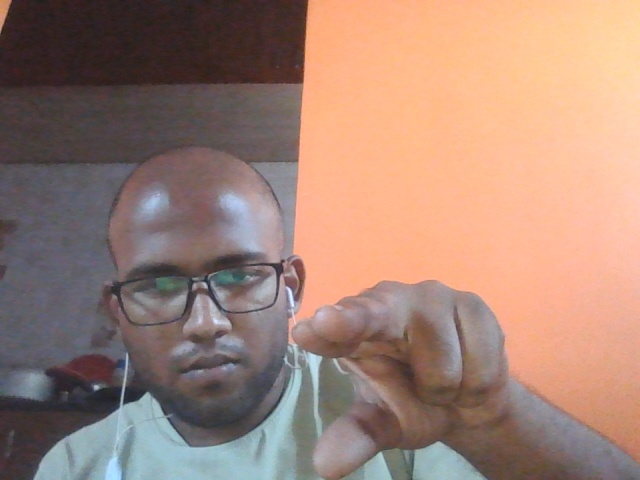no: (240, 263, 576, 480)
